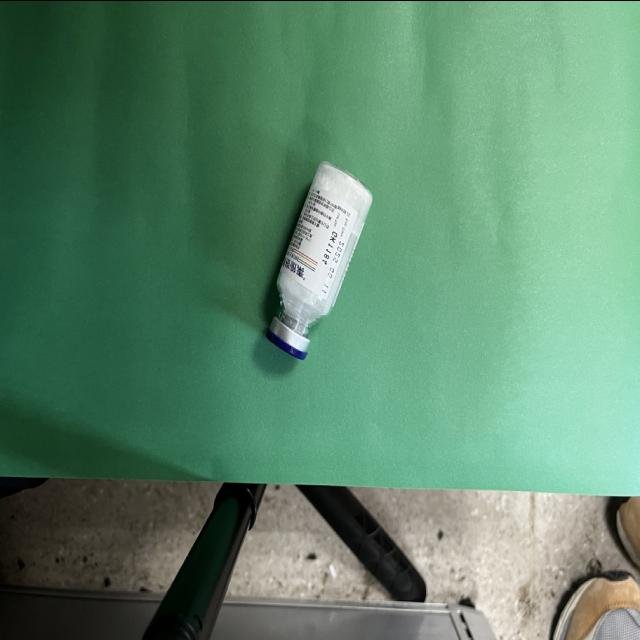Vials: (266, 161, 372, 359)
